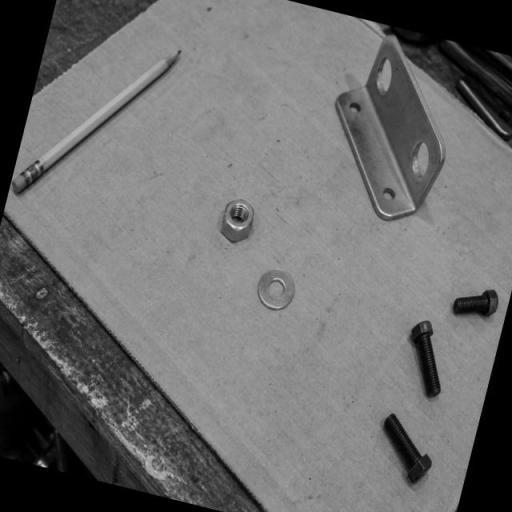Bolt: (383, 412, 433, 485), (410, 320, 442, 399), (452, 288, 499, 318)
Nut: (220, 199, 255, 244)
Washer: (256, 269, 296, 312)
